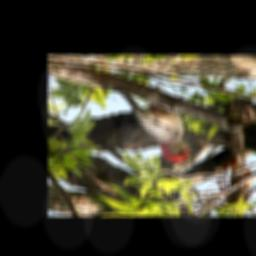Woodpecker: (114, 89, 205, 164)
